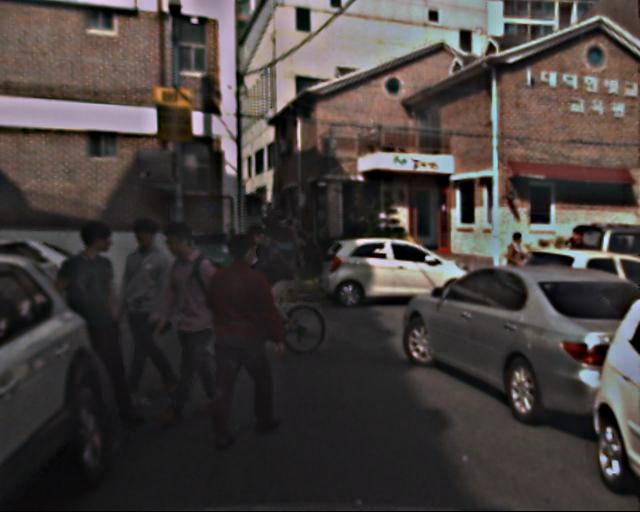person: (57, 221, 151, 428), (200, 232, 284, 441), (147, 226, 231, 418), (108, 216, 194, 400), (236, 225, 293, 349), (561, 228, 591, 302), (504, 232, 533, 302), (278, 215, 312, 271)
